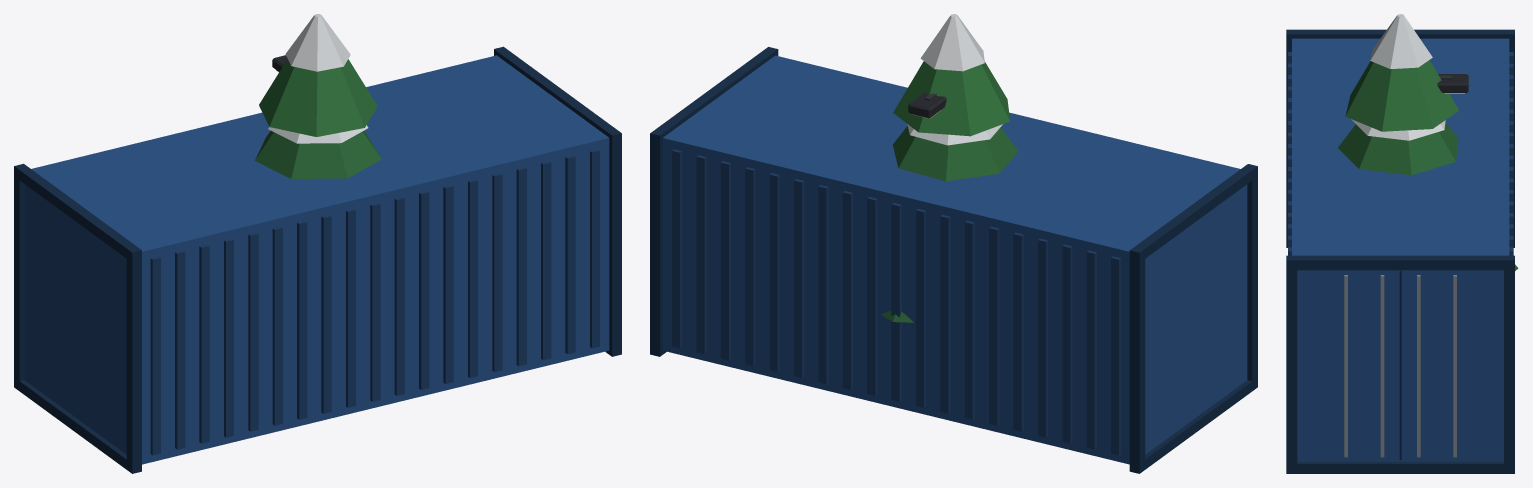
Rendered from props.glb.
3 renders of one model, left to right at view 1: azimuth 30°, elevation 25°; view 2: azimuth 150°, elevation 25°; view 3: azimuth 270°, elevation 25°, orthographic. The views are drawn at different scales.
Visible parts, largest first — view 1: container_blue, pine, pine_snow; view 2: container_blue, pine, pine_snow, lamp; view 3: container_blue, pine, pine_snow, lamp.
Part boxes in pixels (box(x1,y1,x2,y2)): container_blue: box(14, 46, 621, 473); pine: box(255, 59, 381, 178); pine_snow: box(268, 14, 368, 143); container_blue: box(650, 47, 1257, 473); pine: box(881, 61, 1018, 322); pine_snow: box(907, 14, 1002, 145); lamp: box(908, 92, 946, 118); container_blue: box(1286, 29, 1514, 473); pine: box(1338, 60, 1518, 270); pine_snow: box(1351, 14, 1445, 140); lamp: box(1437, 74, 1468, 93).
Size of the model in its own units: 6.02 by 4.39 by 2.56.
